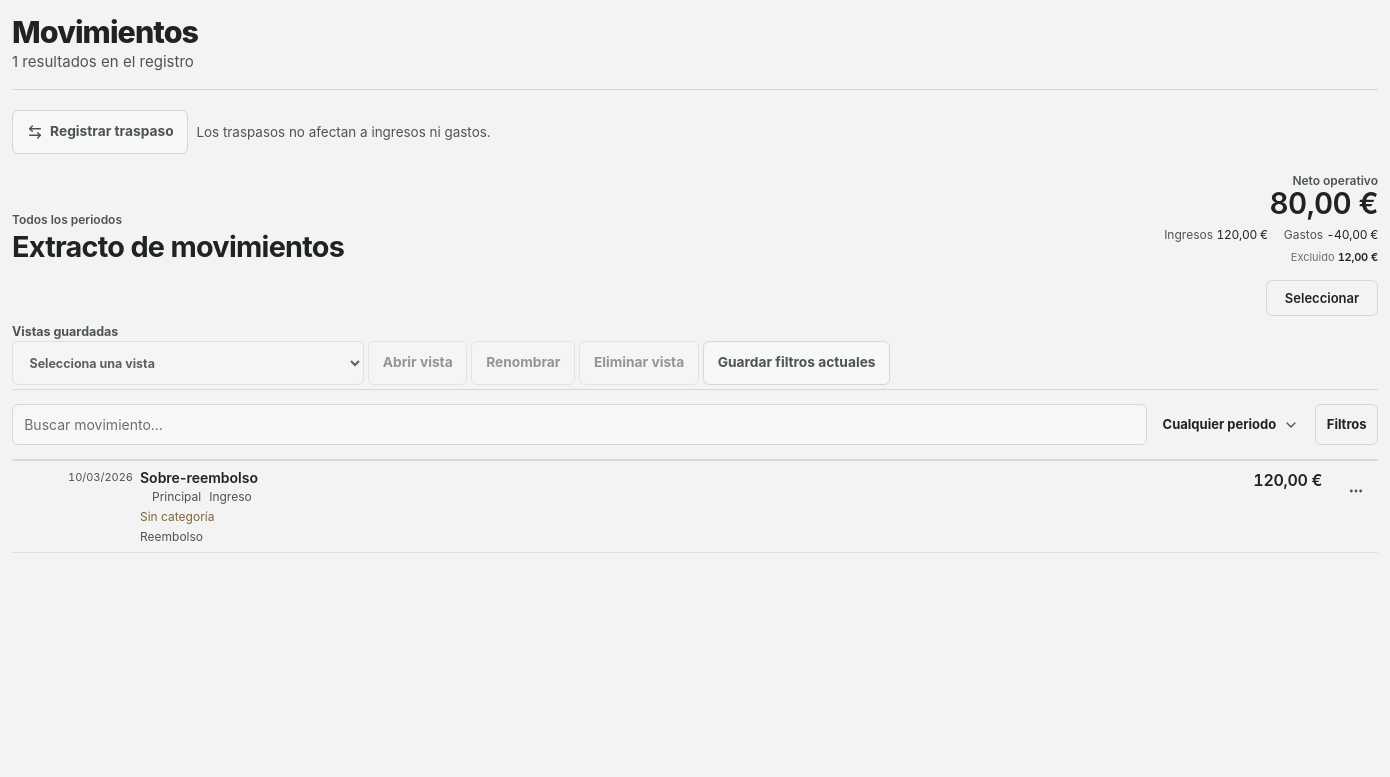
Scenario: statistical transaction drill-down › uses the stable control contracts across the transaction surface
Expected: the text "Sobre-reembolso" is shown, [140, 469, 258, 486]
What coordinates should you click on to do the following:
click the button "Registrar traspaso"
I would click on:
 (100, 132)
Its box is [12, 110, 188, 154].
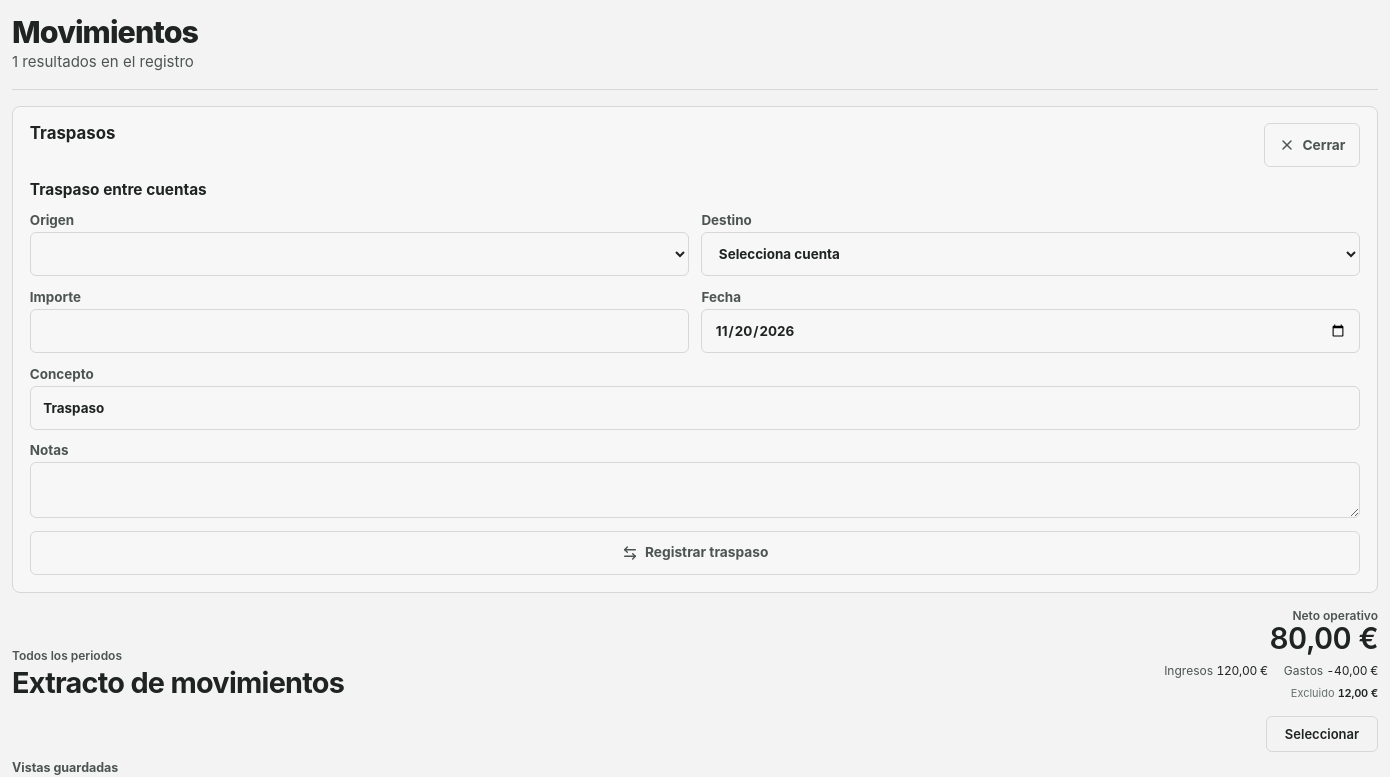
Expected: the form "Traspaso entre cuentas" is shown, [30, 180, 1360, 575]
